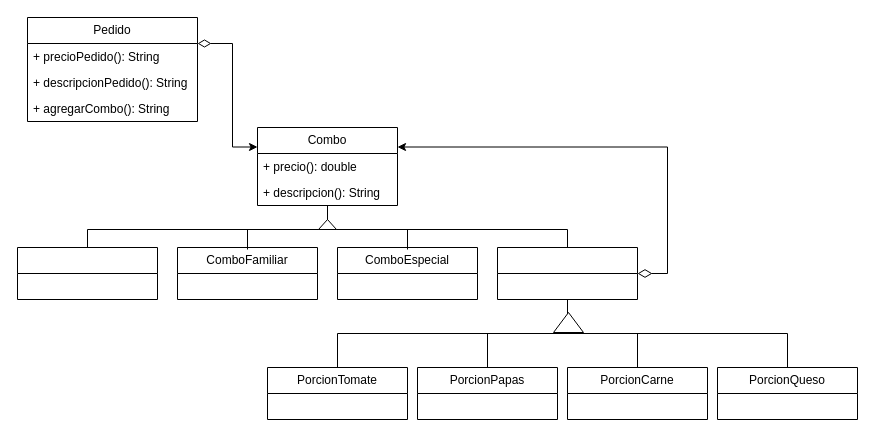
The diagram is 875 pixels wide and 437 high, and some of its shapes have lost their labels. Here are the shapes that lost their labels. From the top down, the centre of each, then its label:
At pixel 87 273: "ComboBasico".
At pixel 567 273: "PorcionAdicional".
